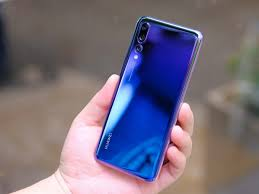huawei: (92, 14, 205, 184)
